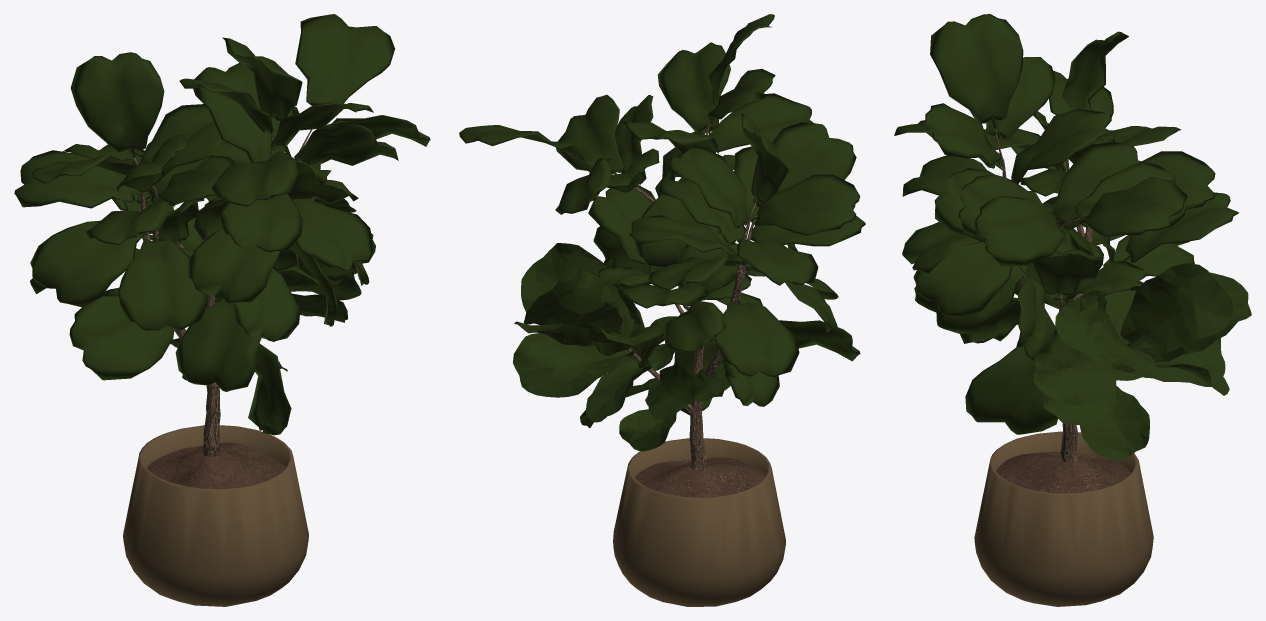
File: plant-ficus-desk.glb
3 views of the same model, side by side, from view 1: azimuth 30°, elevation 25°; view 2: azimuth 150°, elevation 25°; view 3: azimuth 270°, elevation 25° (orthographic). The views are drawn at different scales.
Parts seen in each view (by area): view 1: Collection indoor plant 251 ficus lyrata monstera palm _4642 (×5); view 2: Collection indoor plant 251 ficus lyrata monstera palm _4642 (×5); view 3: Collection indoor plant 251 ficus lyrata monstera palm _4642 (×5).
Part boxes in pixels (x1,y1,x2,y2): Collection indoor plant 251 ficus lyrata monstera palm _4642 (×5): [14, 14, 430, 606]; Collection indoor plant 251 ficus lyrata monstera palm _4642 (×5): [459, 14, 865, 606]; Collection indoor plant 251 ficus lyrata monstera palm _4642 (×5): [894, 14, 1251, 606].
Bounding box in the file's own units: 0.2369 × 0.3396 × 0.1964.
Materials: 4 (2 with a texture image).
